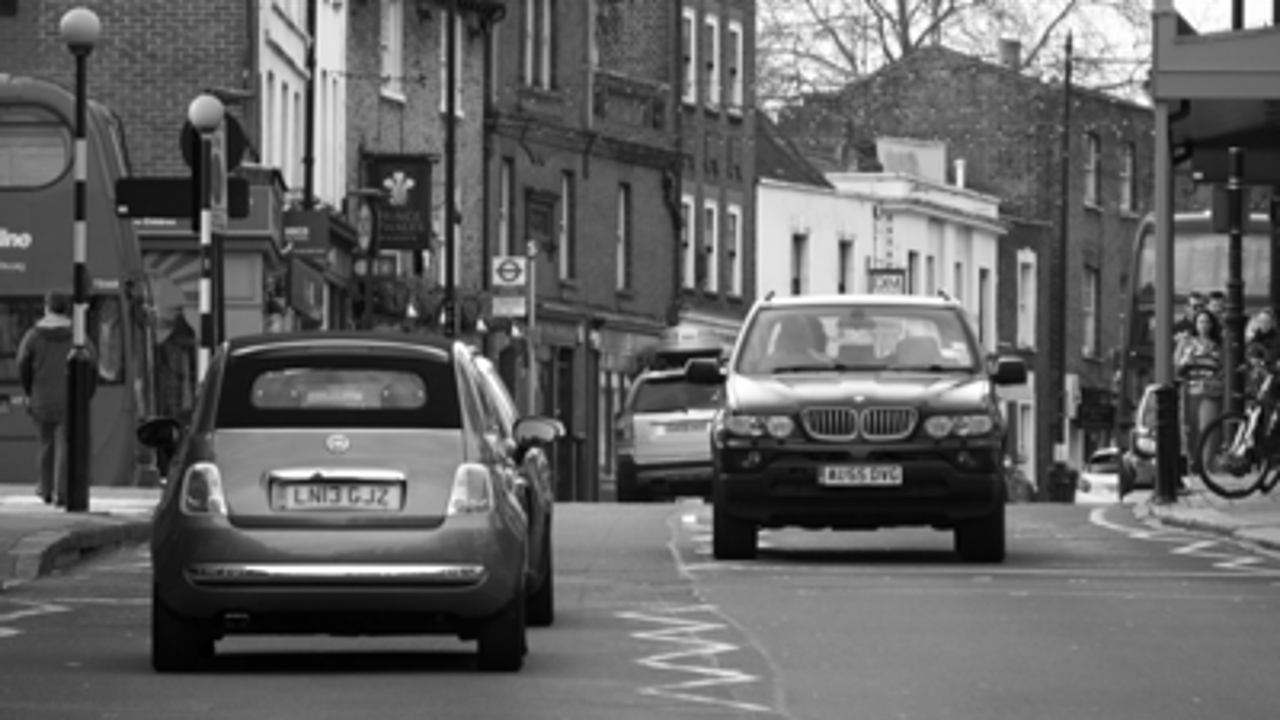license: (278, 476, 406, 514), (810, 459, 907, 488)
